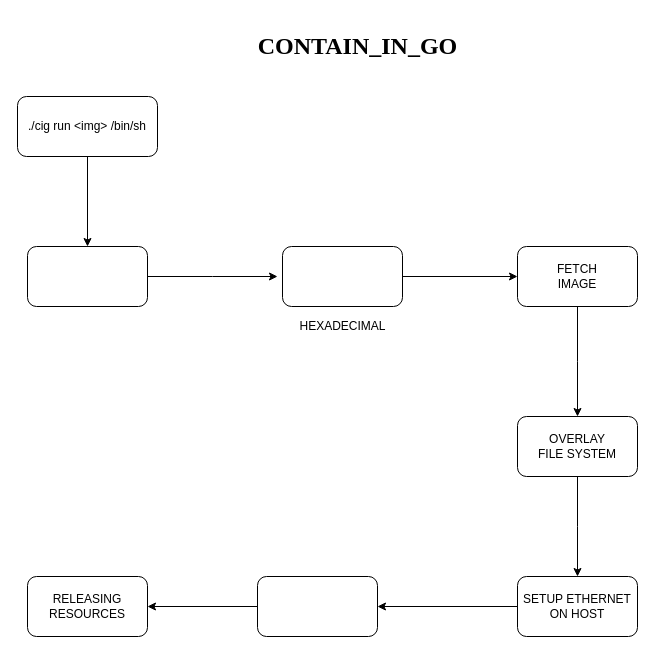
This 655x654 diagram has some shape labels left out. The shapes that lost their labels are listed below. From the top down, each one's centre as x and y in pixels, then its label:
the point at 87,276: SETUP BRIDGE
the point at 342,276: GENERATE CONTAINER ID
the point at 317,606: EXECUTE CONTAINER
